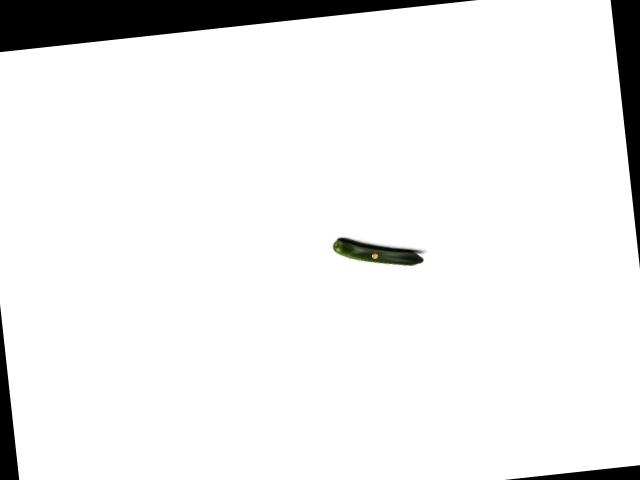cucumber: (331, 230, 423, 273)
